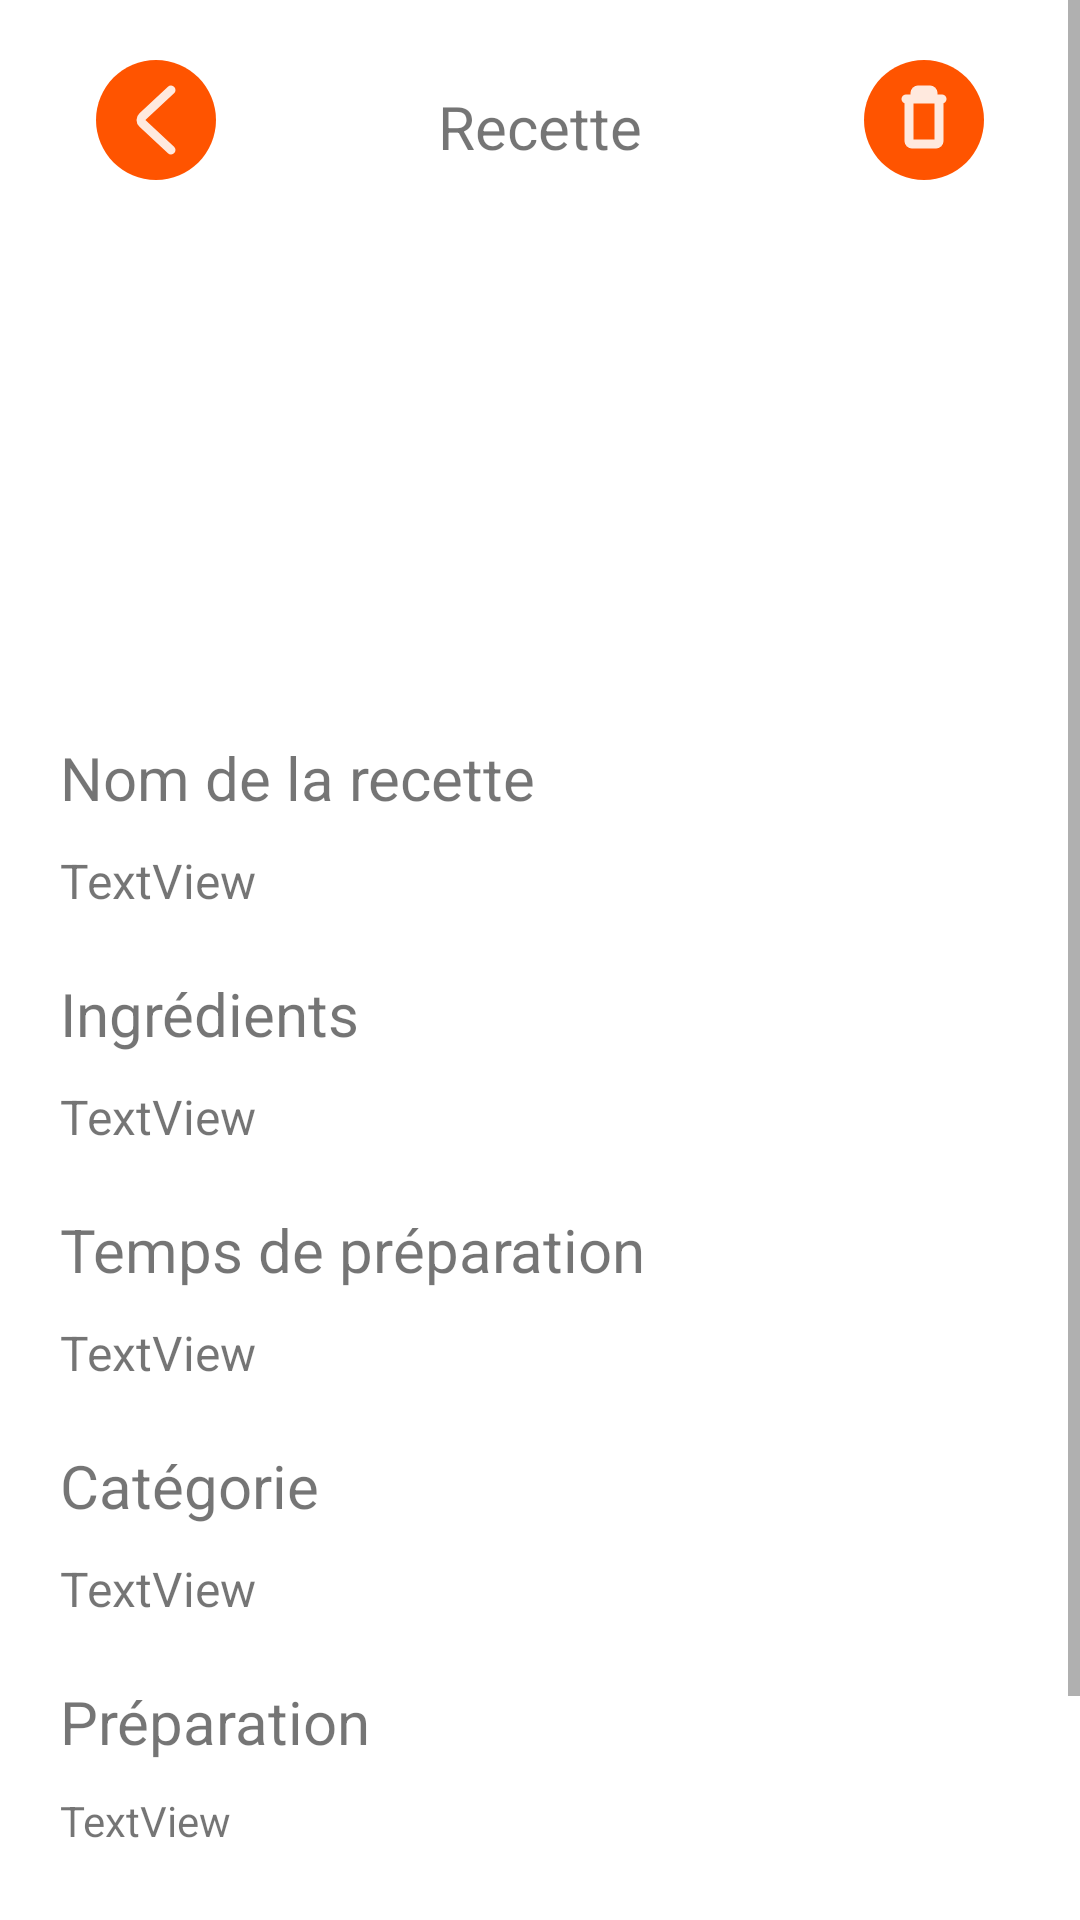

Named icons in this screenshot (1080×1920) and their centers, (x,y):
Retour: (156,120)
Supprimer la recette: (924,120)
